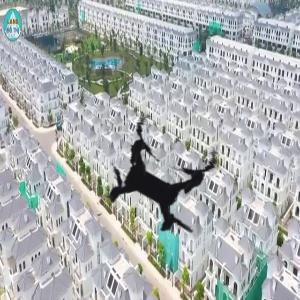drone: (58, 80, 258, 280)
